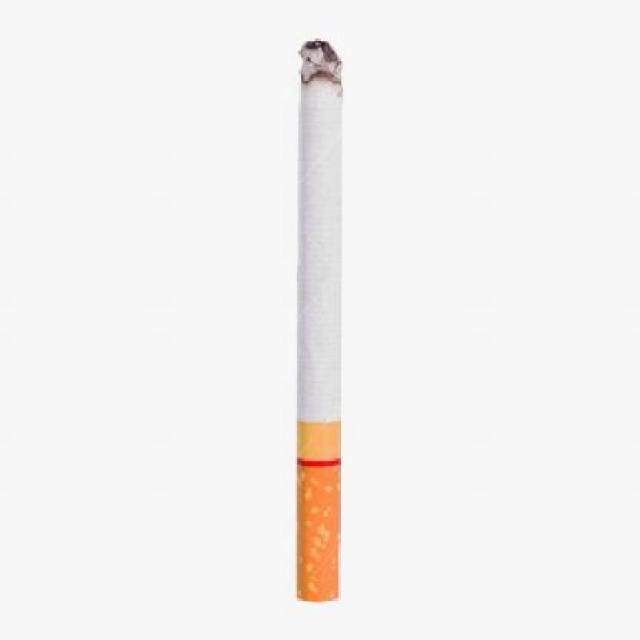cigarette: (284, 30, 362, 612)
